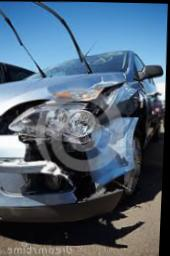Bonnet: (85, 72, 131, 115)
Bumper: (0, 135, 134, 215)
Fender: (117, 82, 145, 137)
Light: (0, 100, 115, 146)
